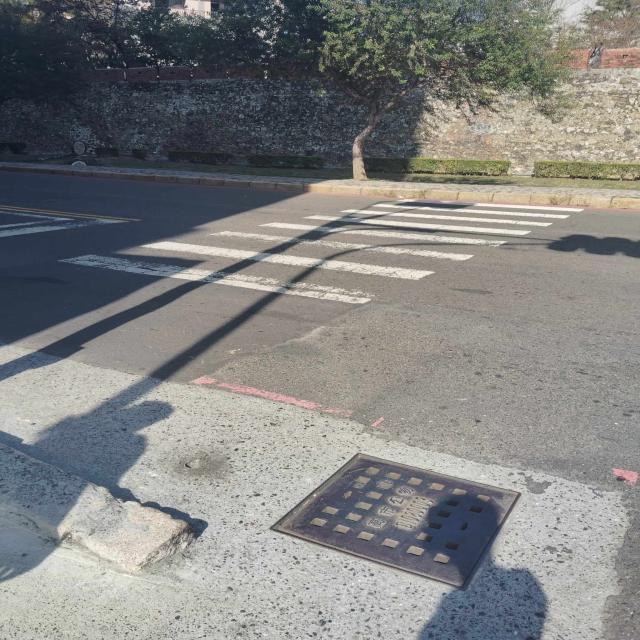zebra crossing: (65, 198, 581, 301)
